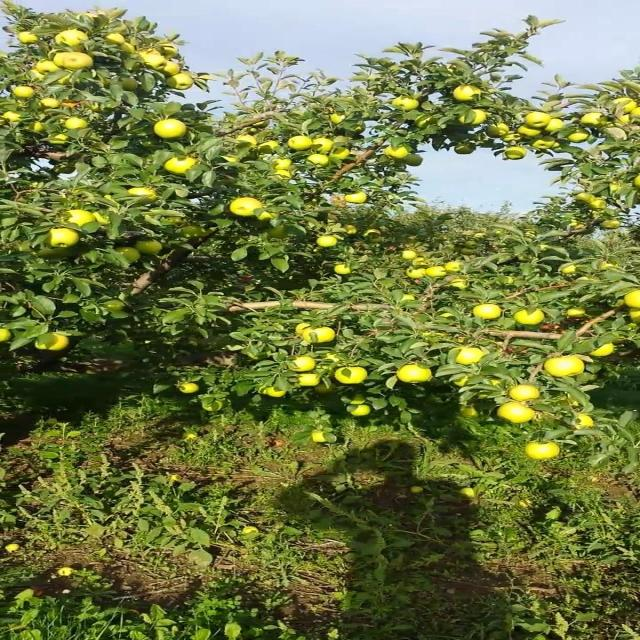apple: (547, 356, 585, 378), (156, 120, 187, 140), (504, 404, 535, 424), (333, 368, 370, 384), (525, 444, 562, 460), (397, 368, 434, 384), (454, 348, 485, 365), (134, 240, 164, 256), (127, 188, 158, 203), (476, 304, 505, 320), (170, 160, 199, 176), (305, 328, 334, 344), (234, 200, 263, 216), (63, 56, 92, 72), (49, 232, 78, 248), (42, 336, 71, 352), (511, 388, 540, 403), (63, 212, 92, 227), (35, 248, 71, 260), (454, 88, 484, 102), (461, 112, 489, 127), (255, 212, 283, 227), (525, 112, 551, 127), (518, 312, 548, 324), (291, 136, 313, 152), (582, 116, 610, 128), (589, 344, 617, 356), (269, 224, 290, 240), (143, 52, 164, 68), (120, 248, 142, 263), (170, 76, 192, 91), (291, 360, 318, 372), (383, 148, 409, 160), (63, 32, 87, 45), (532, 140, 560, 151), (141, 56, 164, 69), (490, 124, 512, 137), (575, 416, 597, 429), (397, 100, 420, 112), (404, 156, 427, 168), (348, 192, 370, 204), (312, 140, 334, 152), (298, 376, 320, 388), (504, 148, 526, 160), (568, 132, 590, 144), (454, 144, 476, 156), (547, 120, 567, 133), (92, 212, 112, 225), (13, 88, 36, 99), (319, 236, 340, 248), (205, 400, 226, 412), (312, 156, 332, 168), (618, 100, 638, 112), (419, 116, 439, 128), (20, 32, 39, 44), (120, 80, 139, 92), (625, 292, 639, 308), (426, 268, 448, 278), (163, 64, 181, 76), (255, 212, 279, 221), (163, 44, 178, 58), (561, 264, 578, 276), (454, 376, 471, 388), (184, 228, 204, 238), (518, 128, 540, 137), (348, 396, 370, 405), (461, 408, 478, 419), (106, 36, 126, 45), (412, 268, 427, 280), (312, 432, 327, 444), (241, 136, 256, 148), (49, 136, 71, 144), (589, 200, 606, 210), (568, 308, 585, 318), (333, 268, 354, 276), (333, 148, 348, 159), (262, 144, 277, 155), (618, 116, 633, 127), (298, 324, 313, 335), (42, 100, 62, 108), (106, 304, 126, 312), (504, 136, 524, 144), (70, 120, 87, 129), (604, 220, 620, 229), (42, 64, 59, 72), (461, 240, 478, 248), (184, 384, 199, 393), (6, 112, 21, 121), (120, 44, 135, 53), (56, 76, 71, 85), (1, 332, 14, 342), (404, 252, 420, 260), (276, 160, 292, 168), (355, 408, 370, 416), (447, 264, 462, 272), (227, 156, 242, 164), (461, 248, 476, 256), (575, 196, 592, 203), (276, 172, 293, 179), (271, 388, 284, 397), (456, 280, 469, 289), (333, 116, 347, 124), (440, 312, 455, 319), (412, 260, 427, 267), (56, 56, 64, 68), (319, 388, 334, 394), (632, 108, 639, 120), (611, 184, 622, 191), (604, 264, 619, 269), (35, 124, 44, 132), (35, 72, 44, 80), (490, 380, 503, 385), (369, 232, 382, 237), (348, 228, 357, 235), (404, 296, 418, 300), (335, 216, 340, 219)
